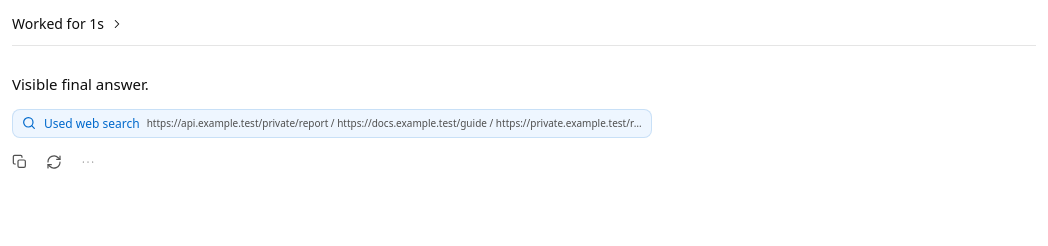
Test: message rendering › collapsed thought summaries and web provenance redact credentials
The image size is (1048, 246).
Click the button with class "run-header-toggle". click: point(58, 24)
box: [12,12,1036,36]
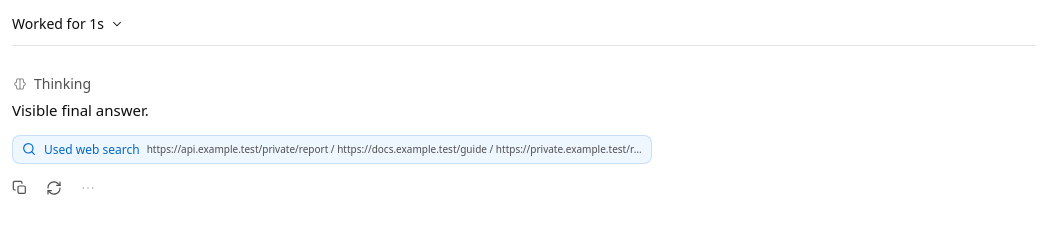
Check: the element with class "thinking-item" does not show "thought-summary-must-not-see-this"
Check: the element with class "thinking-item" reads "Thinking"
Click the button "Thinking". click: point(63, 84)
box: [12,72,1036,96]
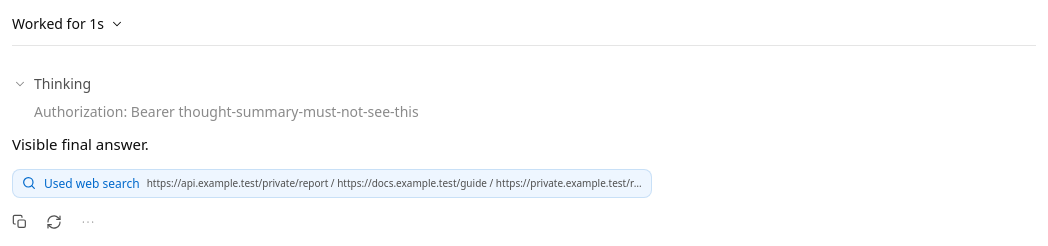
Check: the element with class "timeline-row-thought" shows "thought-summary-must-not-see-this", box [34,102,419,121]
